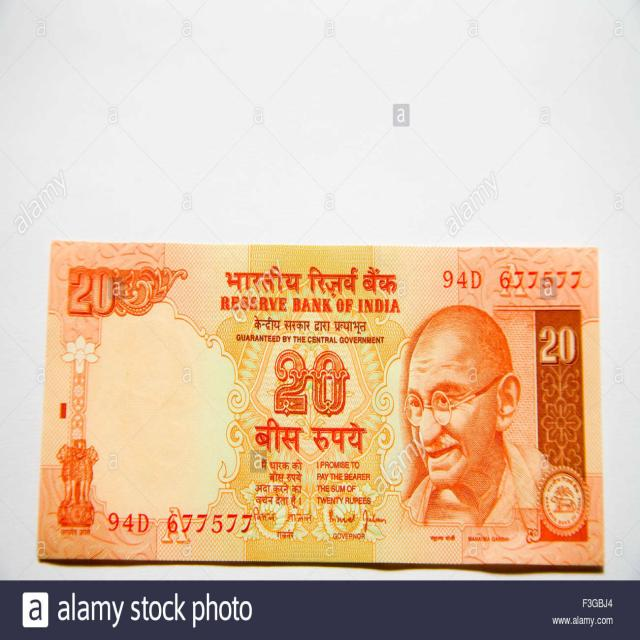20IndianRupees: (44, 247, 600, 569)
